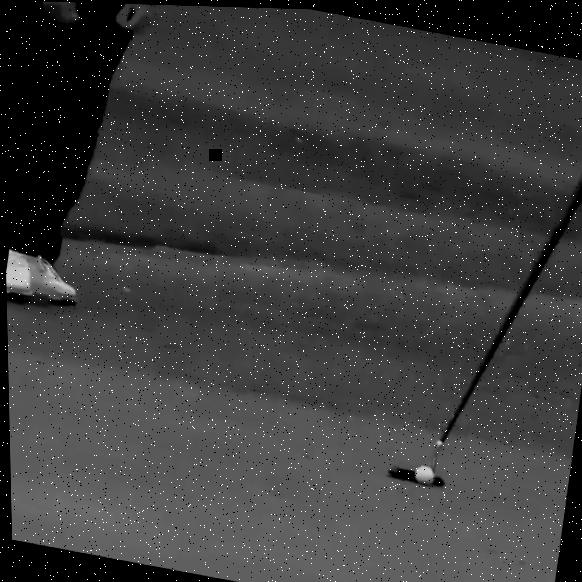ClubHead: (386, 463, 442, 484)
GolfBall: (411, 461, 434, 483)
